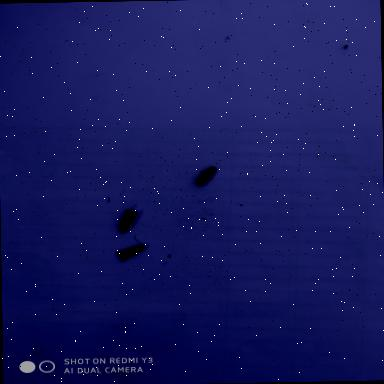pbw: (116, 234, 146, 262), (118, 203, 138, 233), (195, 166, 218, 186)
